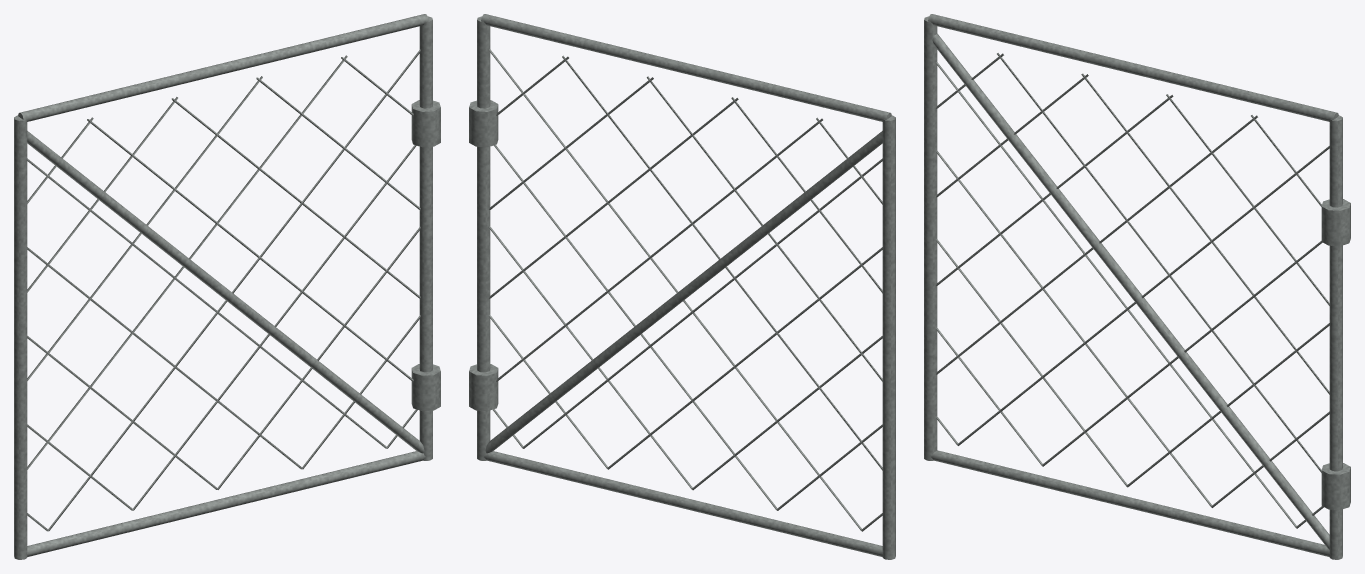
The model's file is SM_Substation_Gate_R_LOD2.fbx.
The picture shows the model from 3 angles, left to right: view 1: azimuth 30°, elevation 25°; view 2: azimuth 150°, elevation 25°; view 3: azimuth 330°, elevation 25°; orthographic projection.
Visible parts, largest first — view 1: SM_Substation_Gate_R_LOD2; view 2: SM_Substation_Gate_R_LOD2; view 3: SM_Substation_Gate_R_LOD2.
Boxes of the visible parts, x1,y1,x2,y2 form: SM_Substation_Gate_R_LOD2: (14, 14, 440, 559); SM_Substation_Gate_R_LOD2: (469, 14, 895, 559); SM_Substation_Gate_R_LOD2: (924, 14, 1350, 559).
Bounding box in the file's own units: 2.26 × 0.14 × 2.26.
